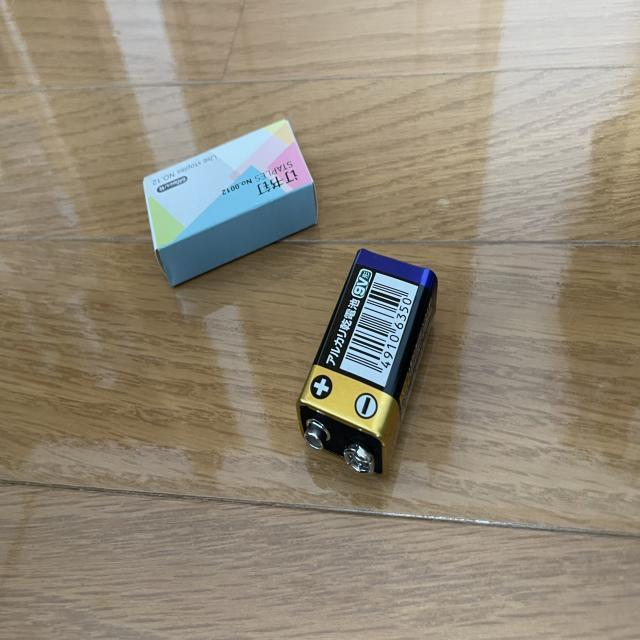9V: (297, 249, 437, 481)
